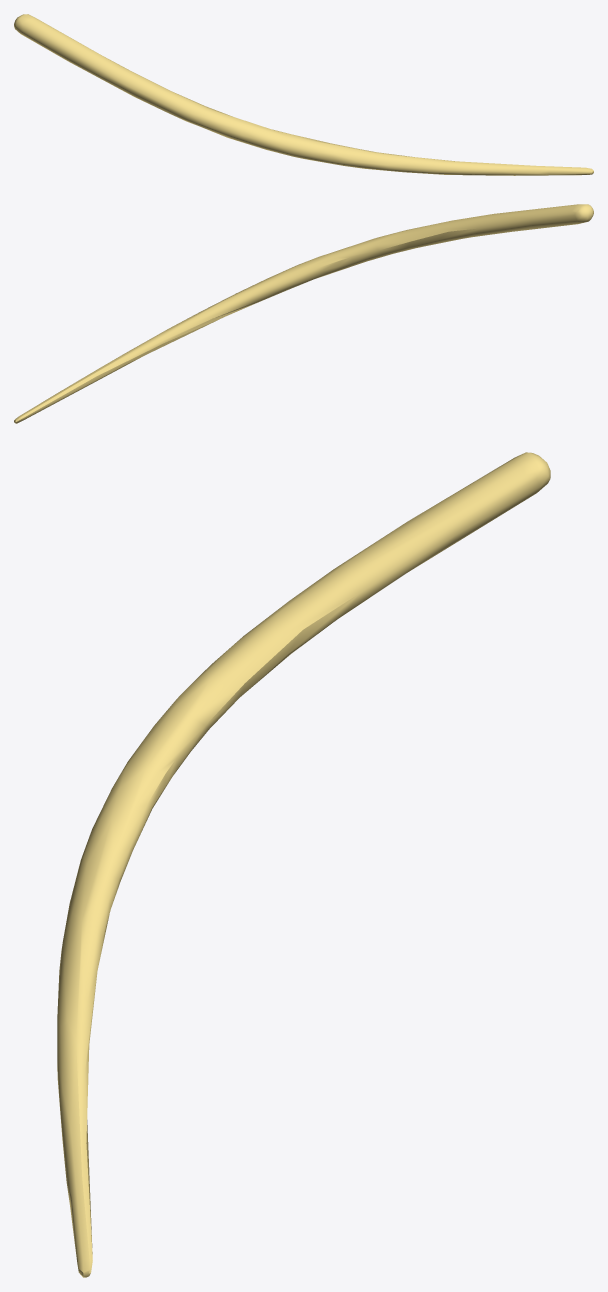
Rendered from fma52730_fj3955.glb.
3 renders of one model, top to bottom at view 1: azimuth 30°, elevation 25°; view 2: azimuth 210°, elevation 25°; view 3: azimuth 270°, elevation 25°, orthographic. The views are drawn at different scales.
Parts seen in each view (by area): view 1: FMA52730_FJ3955; view 2: FMA52730_FJ3955; view 3: FMA52730_FJ3955.
Boxes of the visible parts, left/top/right/bottom form: FMA52730_FJ3955: left=14, top=14, right=593, bottom=175; FMA52730_FJ3955: left=14, top=204, right=593, bottom=423; FMA52730_FJ3955: left=57, top=452, right=550, bottom=1277.
Bounding box in the file's own units: 0.0168 × 0.00648 × 0.00768.
